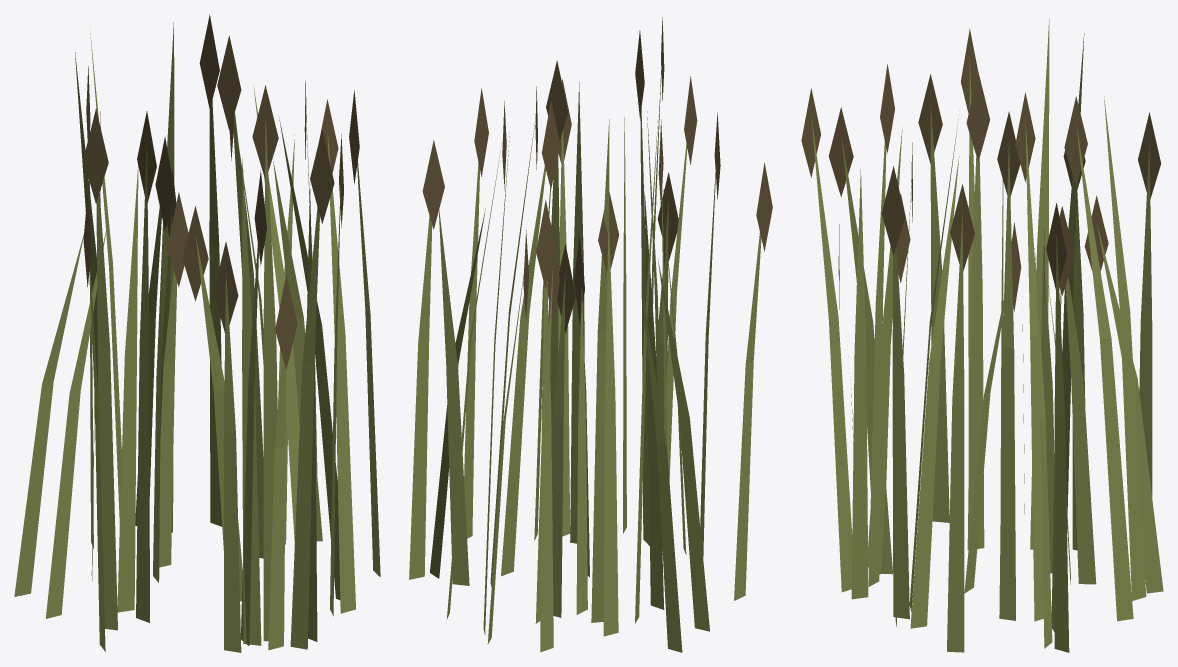
The model's file is riet.glb.
3 renders of one model, left to right at view 1: azimuth 30°, elevation 25°; view 2: azimuth 150°, elevation 25°; view 3: azimuth 270°, elevation 25°, orthographic. The views are drawn at different scales.
Visible parts, largest first — view 1: Riet; view 2: Riet; view 3: Riet.
Part boxes in pixels (x1,y1,x2,y2): Riet: [14, 14, 380, 652]; Riet: [409, 17, 772, 652]; Riet: [801, 19, 1163, 652].
Bounding box in the file's own units: 1.33 × 2.3 × 1.44.
